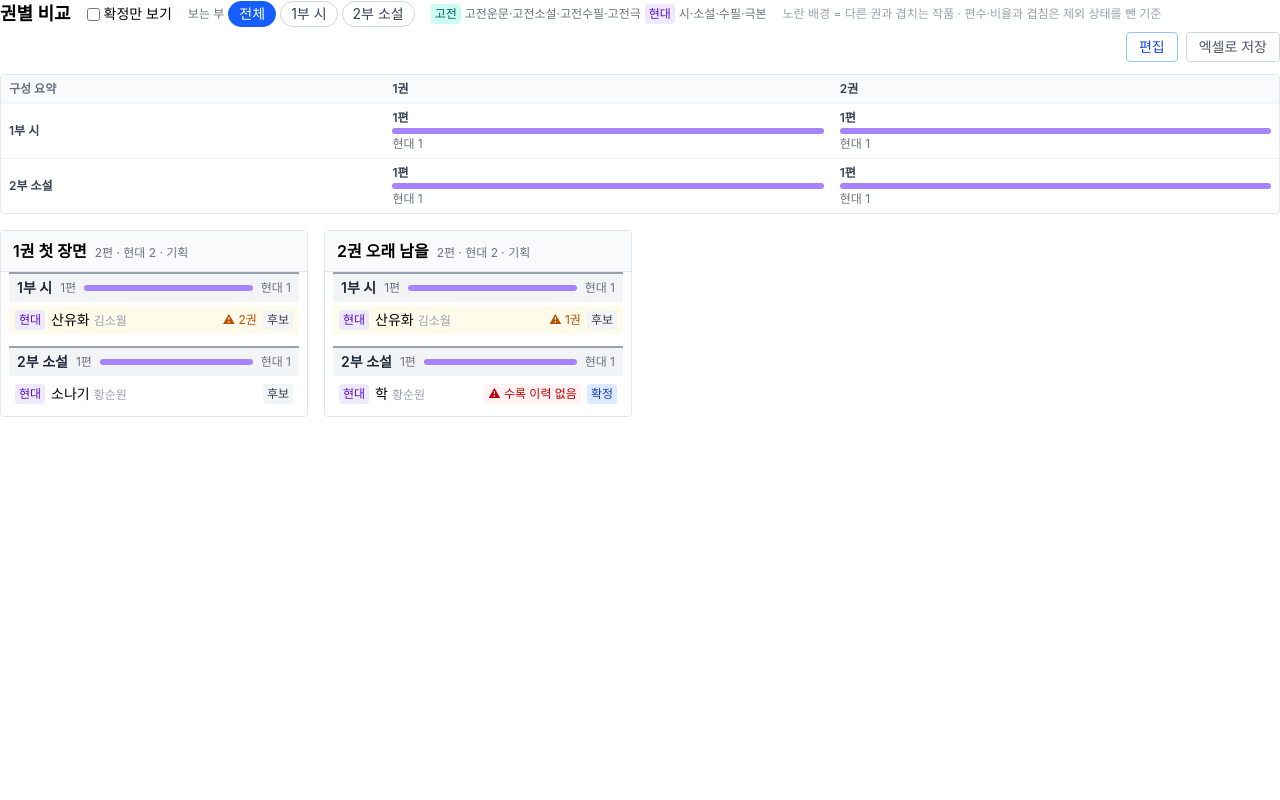
Test: 빼면 취소선과 되돌리기가 생기고, 되돌리면 원래대로
Click the button "편집". click: [1152, 47]
box: [1126, 32, 1178, 62]
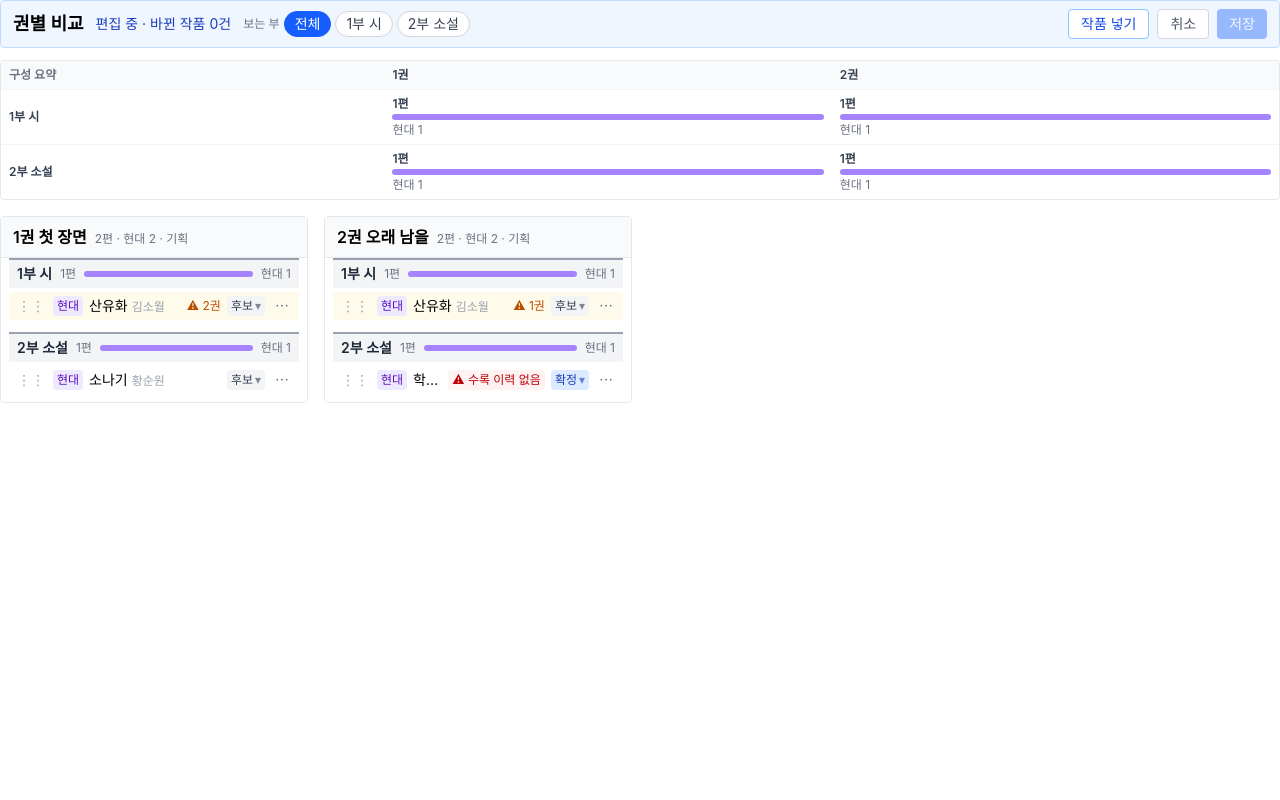
expect the text "편집 중 · 바뀐 작품 0건" is shown: met, box [96, 14, 231, 34]
Click the button named "「소나기」 메뉴". click: [282, 380]
box: [271, 370, 293, 390]
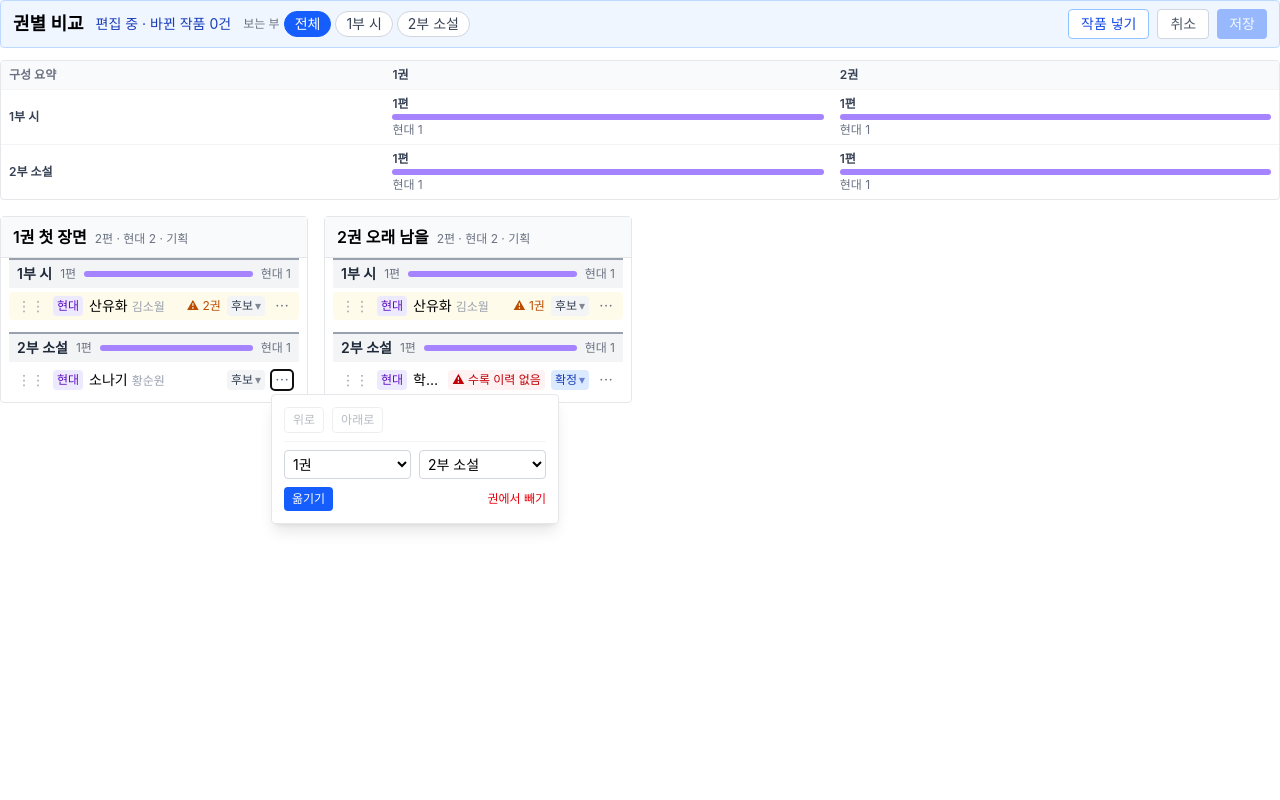
Click the button "권에서 빼기". click: [517, 499]
box: [487, 491, 546, 507]
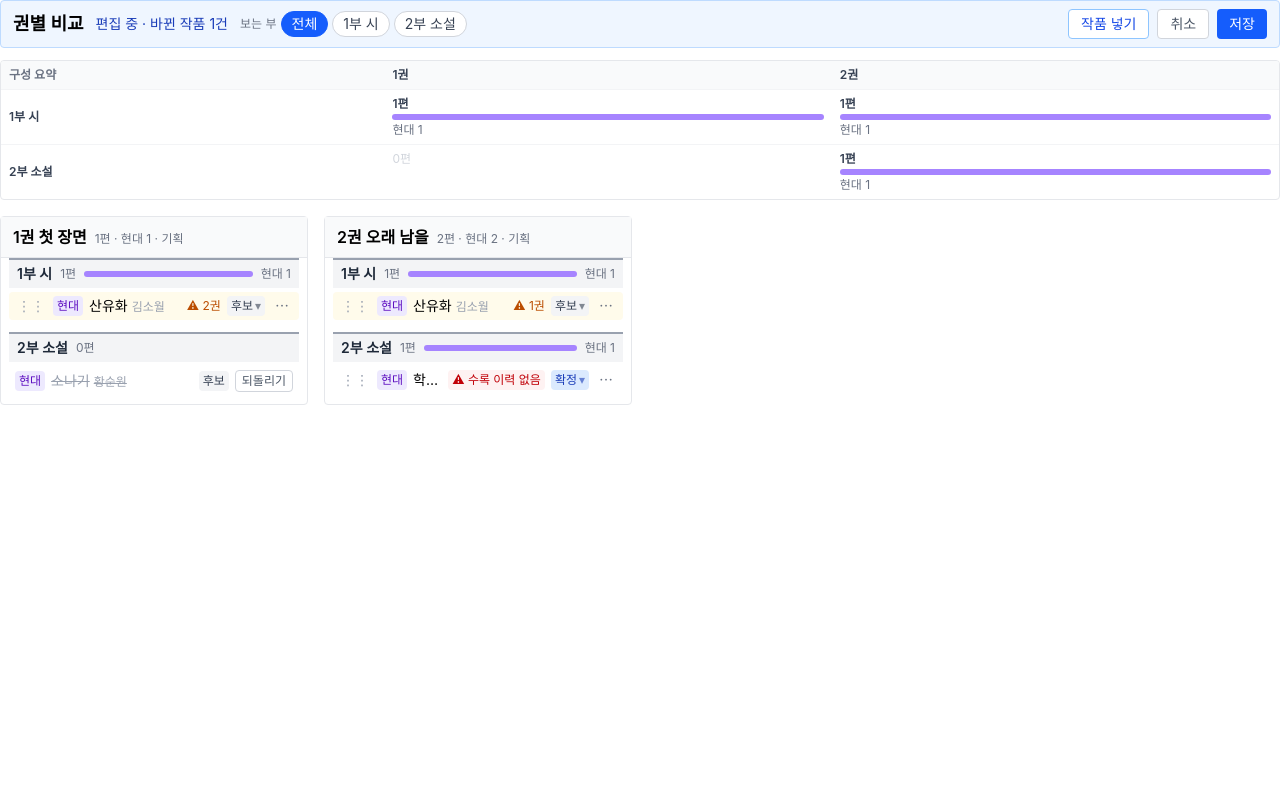
expect the text "편집 중 · 바뀐 작품 1건" is shown: met, box [96, 14, 228, 34]
Click the button "되돌리기". click: [264, 381]
box: [235, 370, 293, 392]
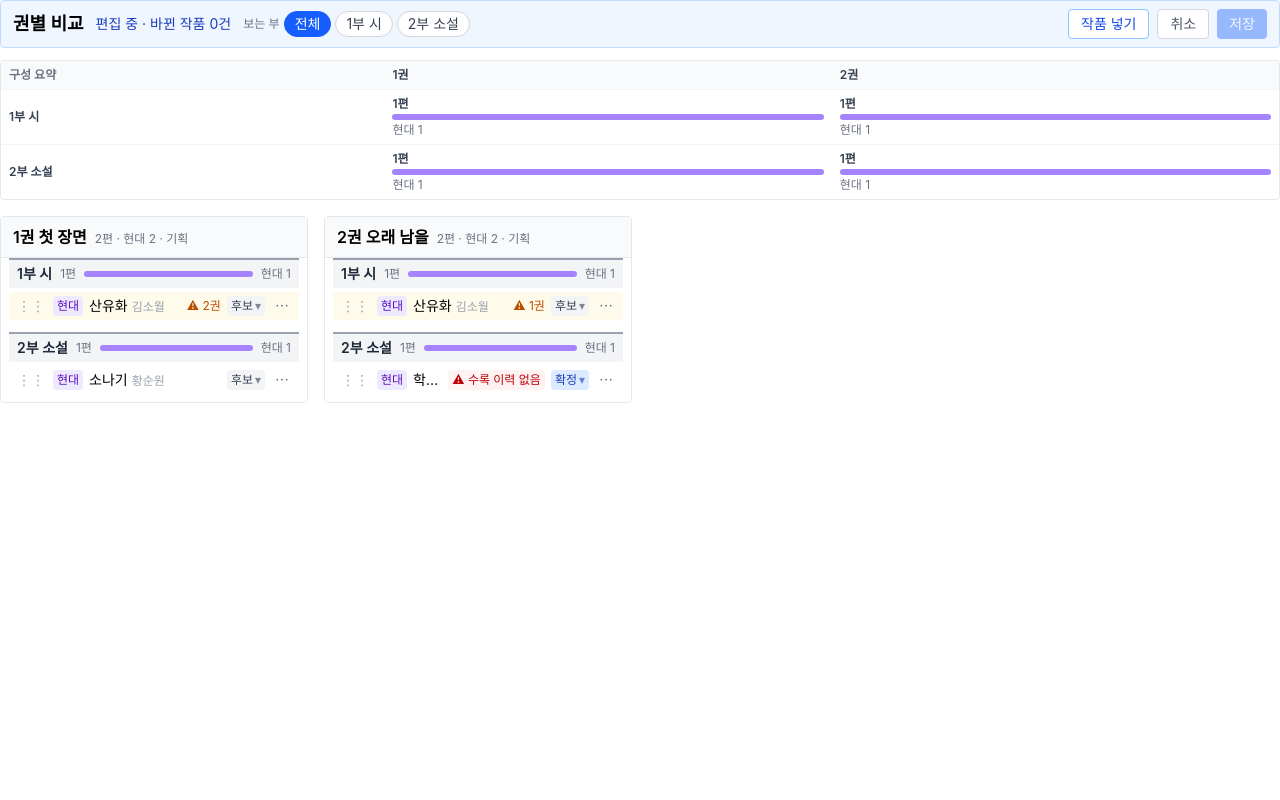
expect the text "편집 중 · 바뀐 작품 0건" is shown: met, box [96, 14, 231, 34]
